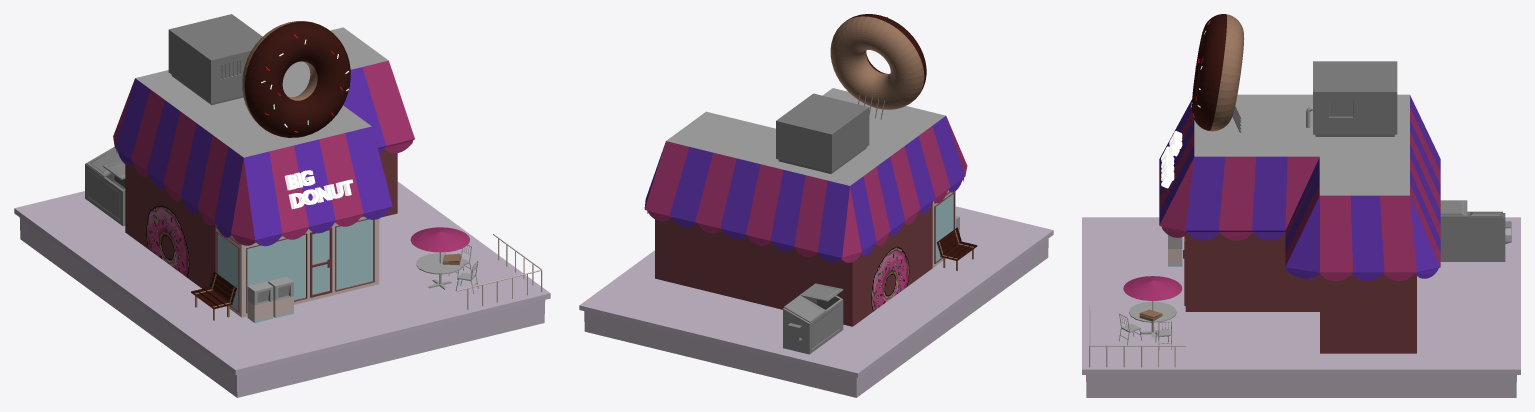
The model's file is doughnut_6946a031.glb.
3 renders of one model, left to right at view 1: azimuth 30°, elevation 25°; view 2: azimuth 150°, elevation 25°; view 3: azimuth 270°, elevation 25°, orthographic. The views are drawn at different scales.
Visible parts, largest first — view 1: Torus.002; view 2: Torus.002; view 3: Torus.002.
Boxes of the visible parts, x1,y1,x2,y2 form: Torus.002: [14, 14, 550, 397]; Torus.002: [579, 14, 1053, 397]; Torus.002: [1082, 14, 1520, 397].
Size of the model in its own units: 7.06 by 6.27 by 8.58.
Materials: 17 (1 with a texture image).
